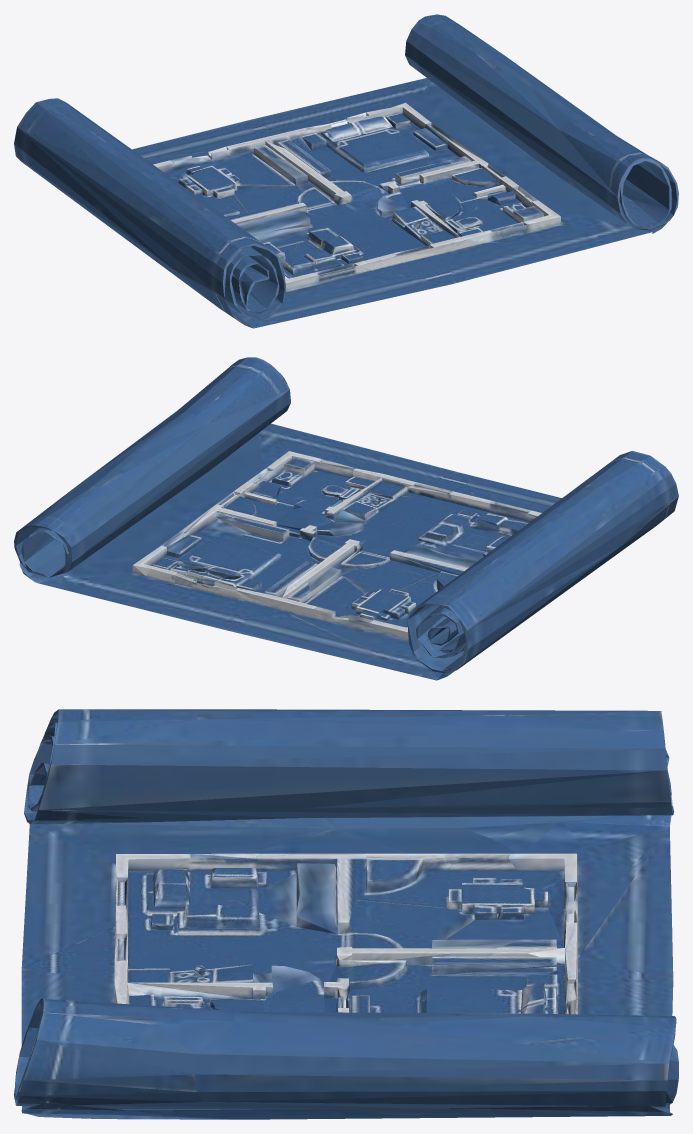
Rendered from blueprint.glb.
3 renders of one model, top to bottom at view 1: azimuth 30°, elevation 25°; view 2: azimuth 150°, elevation 25°; view 3: azimuth 270°, elevation 25°, orthographic. The views are drawn at different scales.
Parts seen in each view (by area): view 1: output_unwrapped; view 2: output_unwrapped; view 3: output_unwrapped.
Part boxes in pixels (x1,y1,x2,y2): output_unwrapped: (14,14,678,328); output_unwrapped: (14,357,678,680); output_unwrapped: (14,709,678,1119).
Size of the model in its own units: 1.9 by 0.3097 by 1.63.
Materials: 1 (1 with a texture image).
